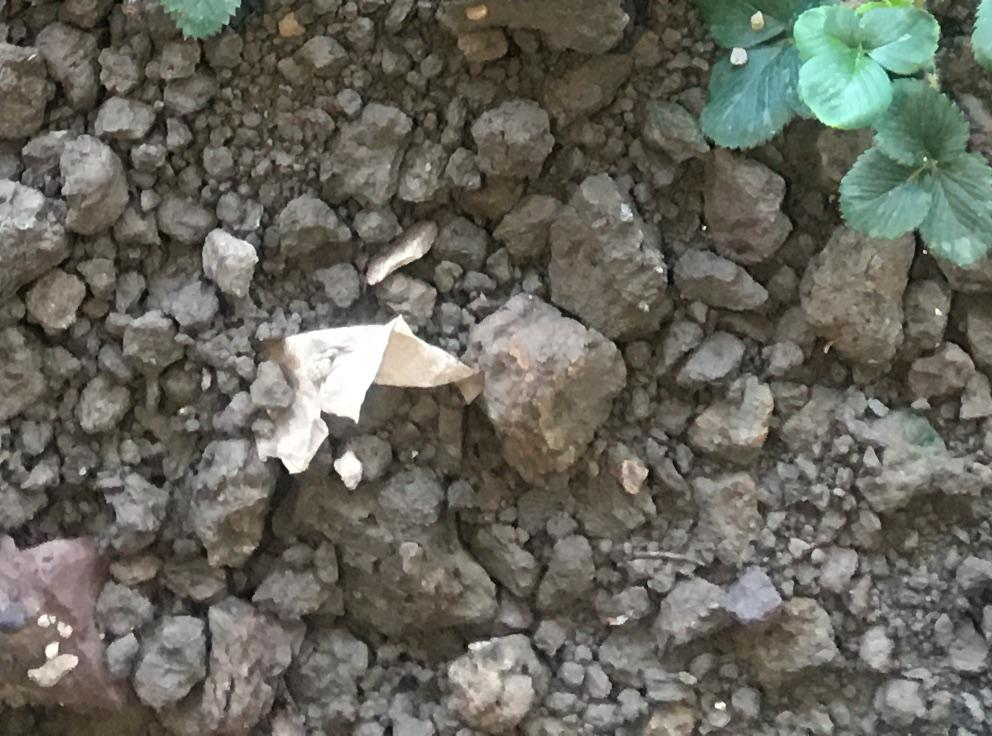block: (262, 454, 493, 638), (467, 292, 625, 494), (540, 172, 663, 343), (799, 195, 902, 379), (191, 434, 278, 567), (702, 145, 789, 268)
